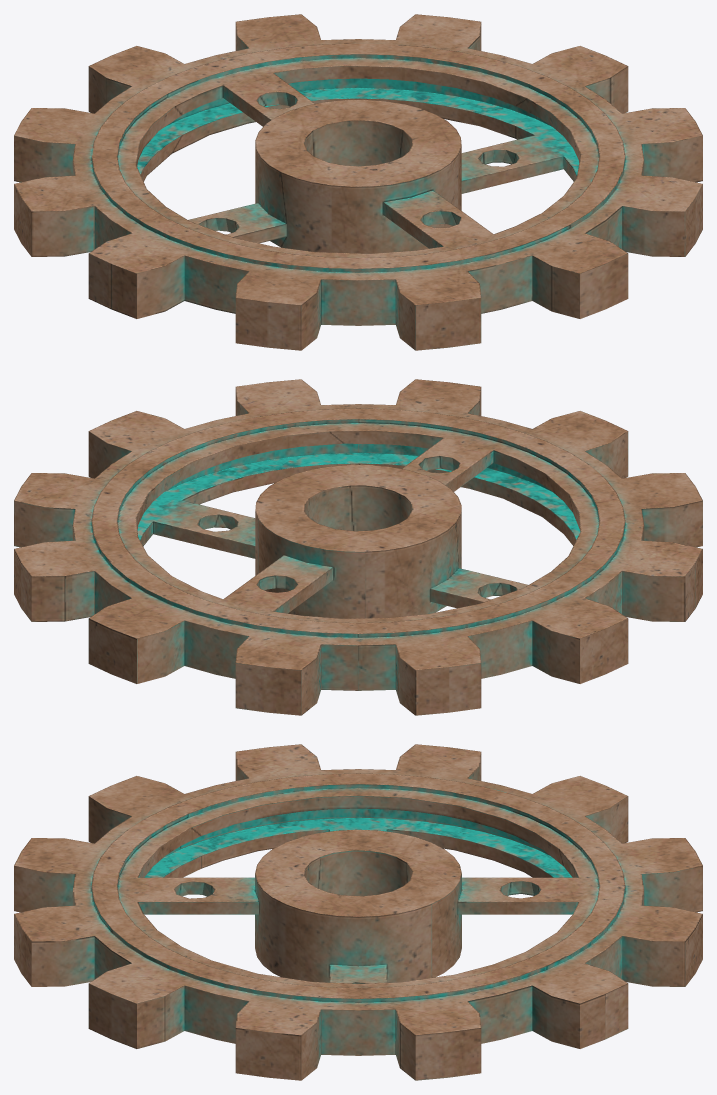
The model's file is gear.glb.
3 renders of one model, top to bottom at view 1: azimuth 30°, elevation 25°; view 2: azimuth 150°, elevation 25°; view 3: azimuth 270°, elevation 25°, orthographic.
Visible parts, largest first — view 1: Gear.000; view 2: Gear.000; view 3: Gear.000.
Part boxes in pixels (x1,y1,x2,y2): Gear.000: [14, 14, 702, 350]; Gear.000: [14, 379, 702, 715]; Gear.000: [14, 744, 702, 1080].
Size of the model in its own units: 2.17 by 0.2614 by 2.17.
1 material, 1 textured.
